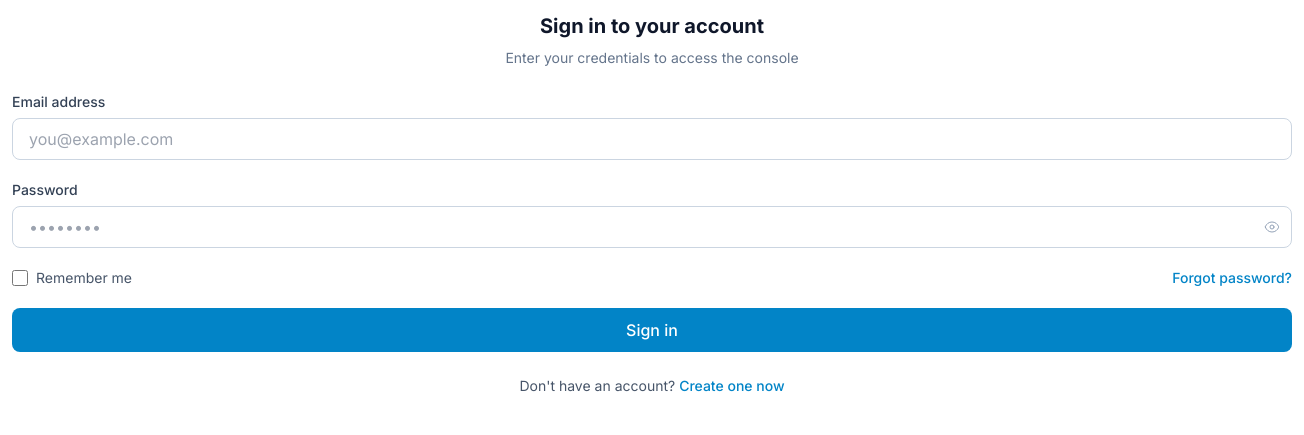
Auth Flow - Login Page › shows validation error for short password
Type "test@example.com" into the field labelled "Email address". click: [652, 139]
box: x1=12 y1=118 x2=1292 y2=160
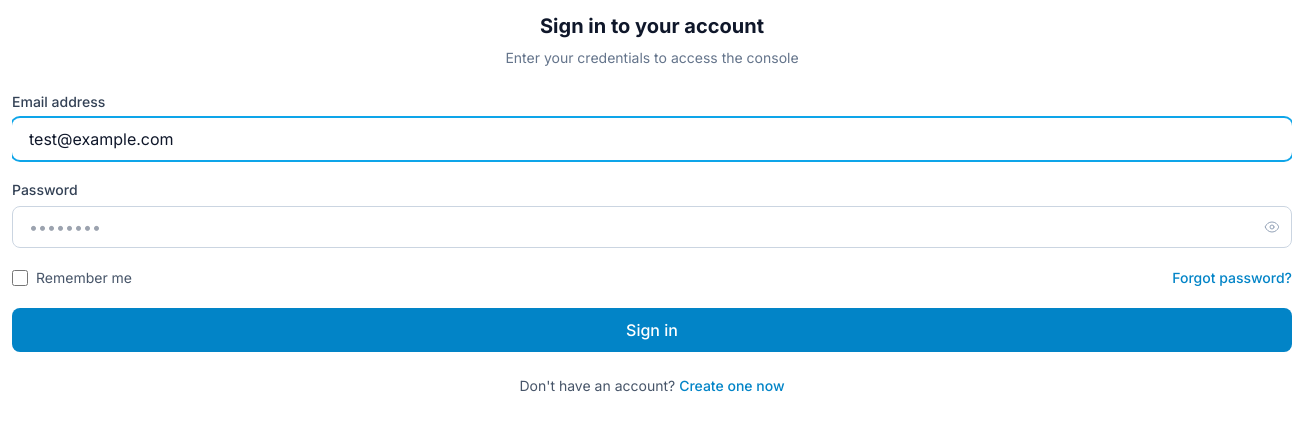
Type "short" into the password field labelled "Password". click: [652, 227]
box: x1=12 y1=206 x2=1292 y2=248
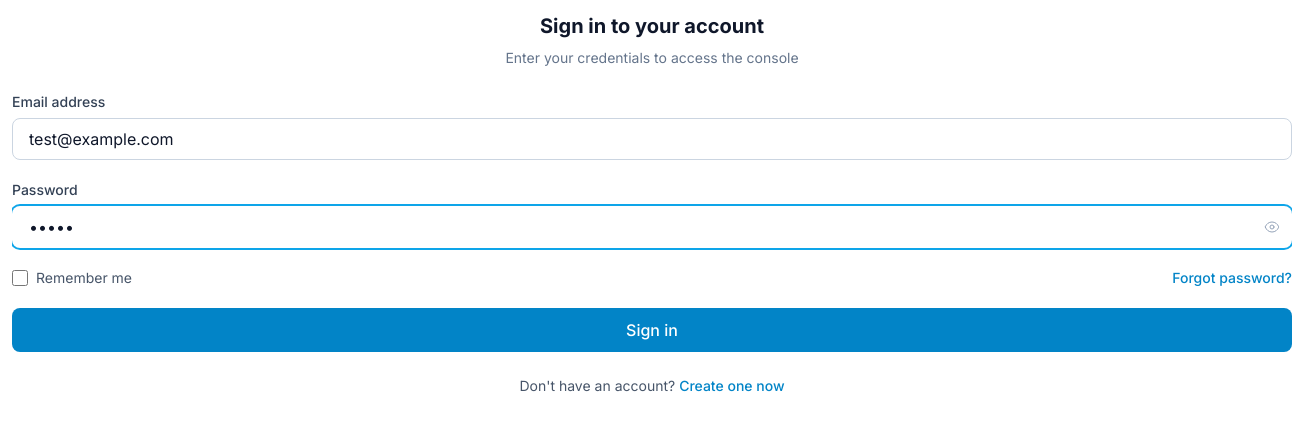
Click the button "Sign in". click: [652, 330]
box: x1=12 y1=308 x2=1292 y2=352
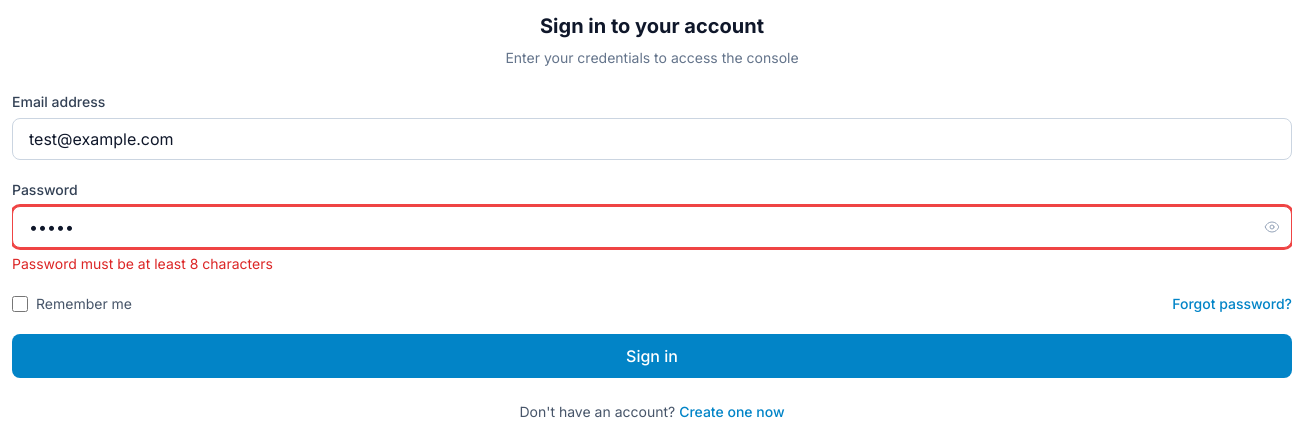
Expected: the text "Password must be at least 8 characters" is shown, x1=12 y1=255 x2=273 y2=272
